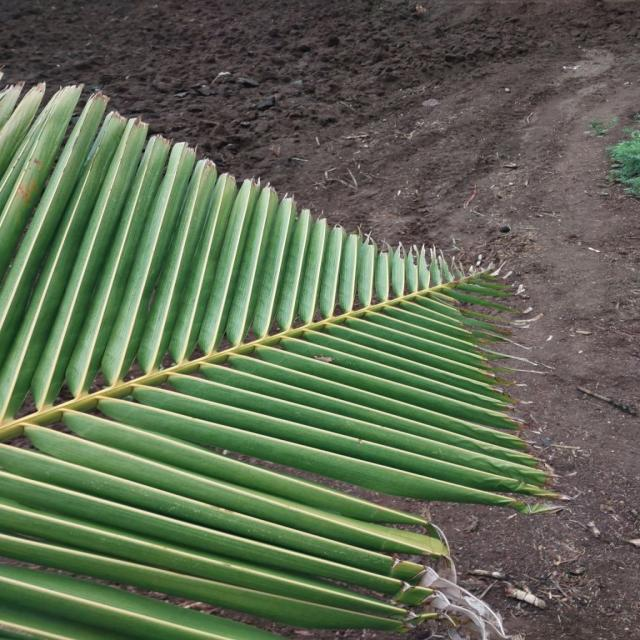leaf rot: (9, 57, 619, 520)
